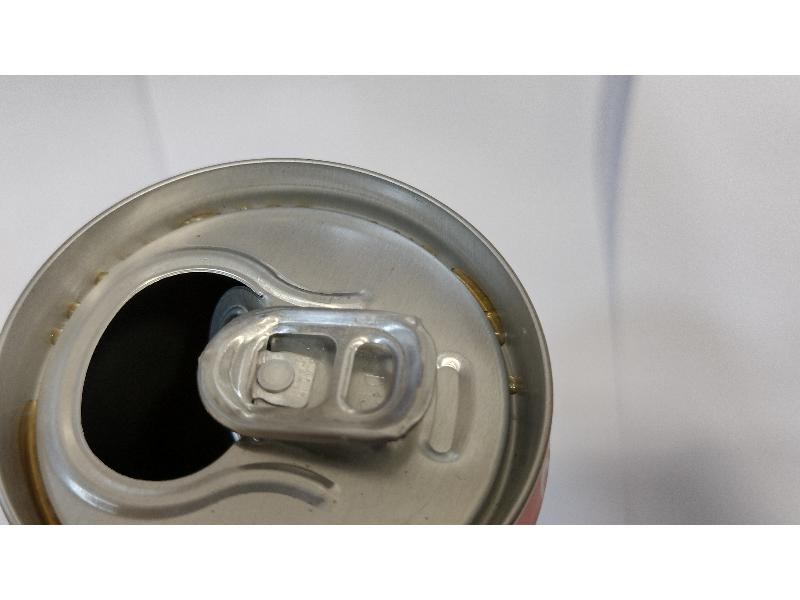can: (1, 157, 558, 521)
